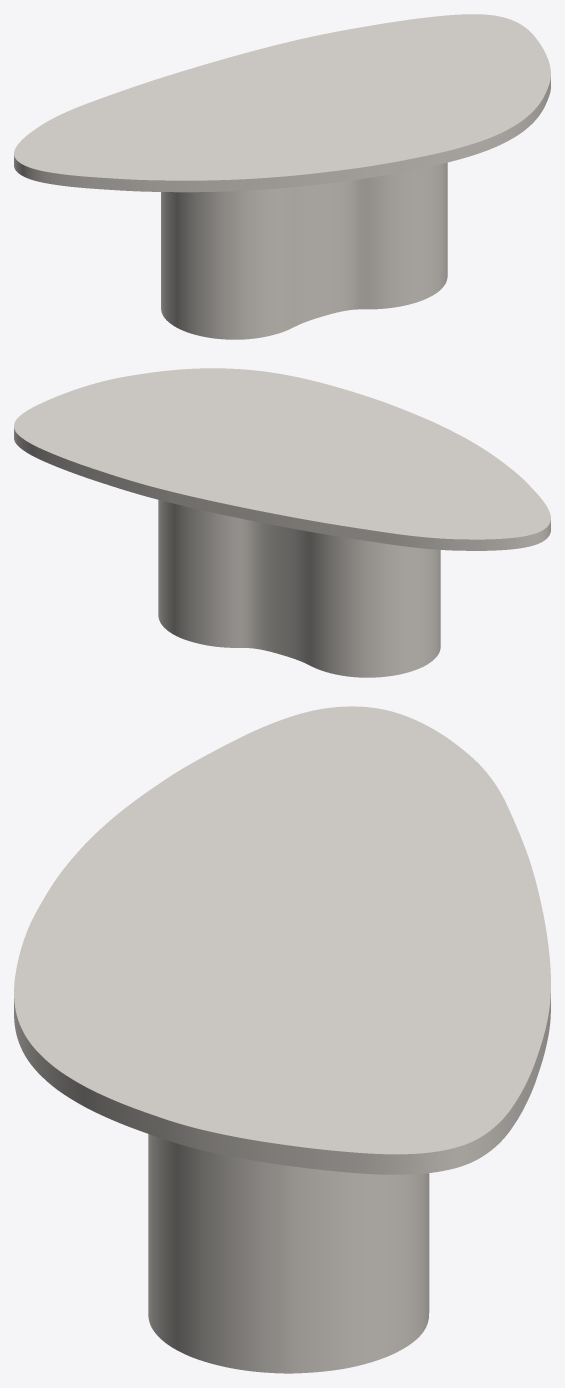
The model's file is pearlwhite_pebbletop_standard_riverwave.glb.
3 renders of one model, top to bottom at view 1: azimuth 30°, elevation 25°; view 2: azimuth 150°, elevation 25°; view 3: azimuth 270°, elevation 25°, orthographic. The views are drawn at different scales.
Parts seen in each view (by area): view 1: standard_pebbletop, riverwave; view 2: standard_pebbletop, riverwave; view 3: standard_pebbletop, riverwave.
Boxes of the visible parts, bbox=[...] form: standard_pebbletop: bbox=[14, 14, 550, 192]; riverwave: bbox=[161, 162, 447, 339]; standard_pebbletop: bbox=[14, 368, 550, 550]; riverwave: bbox=[158, 500, 440, 677]; standard_pebbletop: bbox=[14, 706, 550, 1174]; riverwave: bbox=[148, 1134, 429, 1373].
Size of the model in its own units: 7.5 by 2.51 by 3.8.
1 material, 1 textured.
